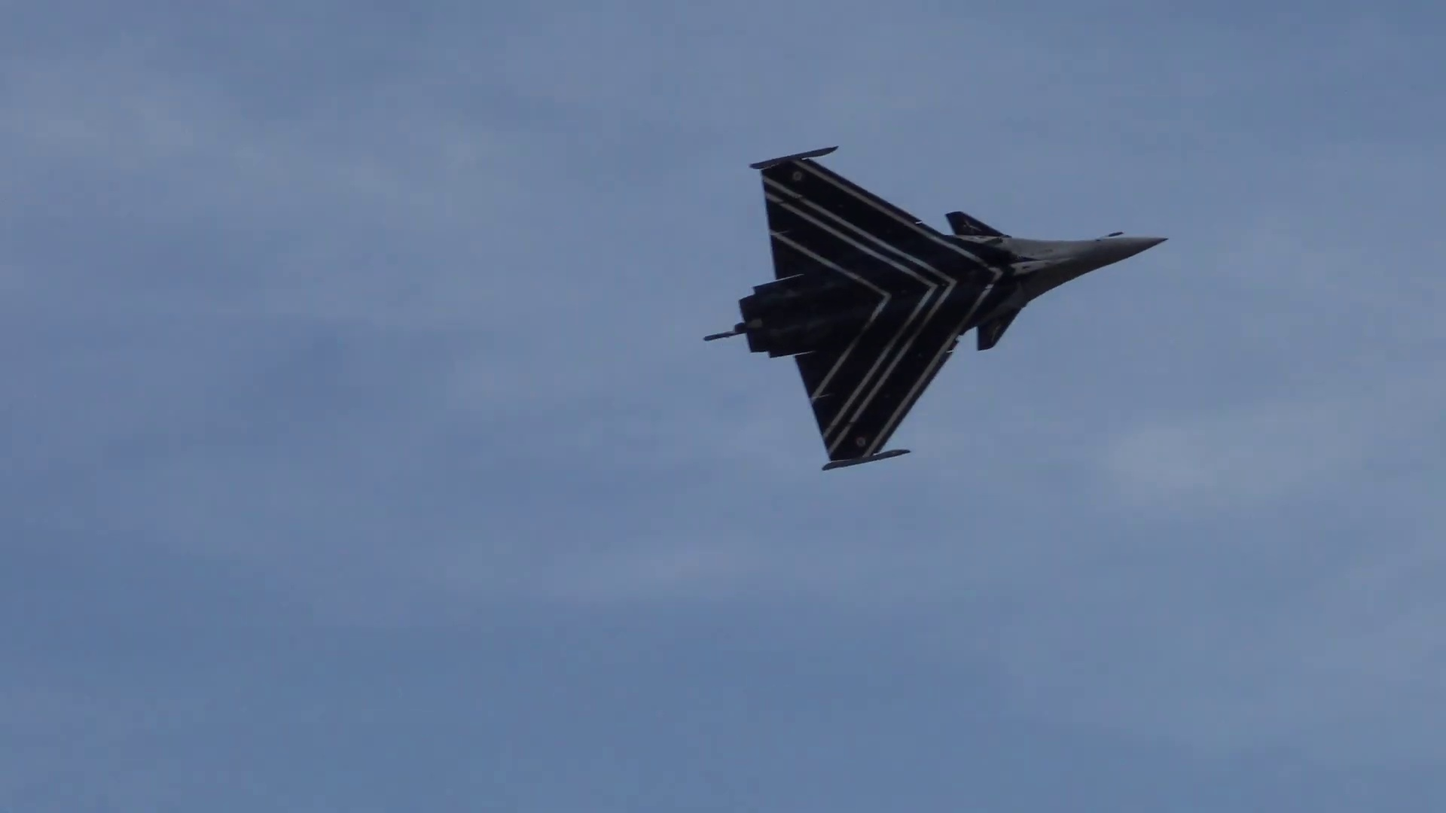Rafale: (702, 148, 1164, 476)
